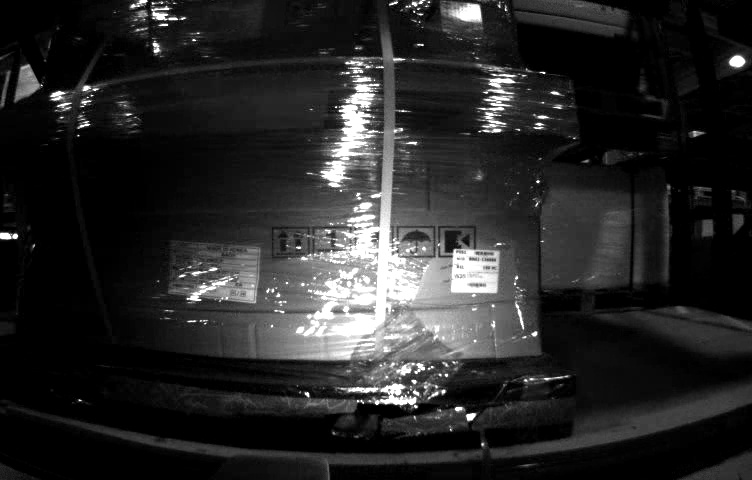True Barcode: (452, 246, 503, 295)
